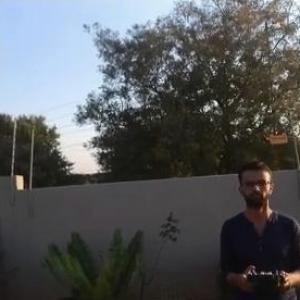follow: (216, 154, 300, 299)
